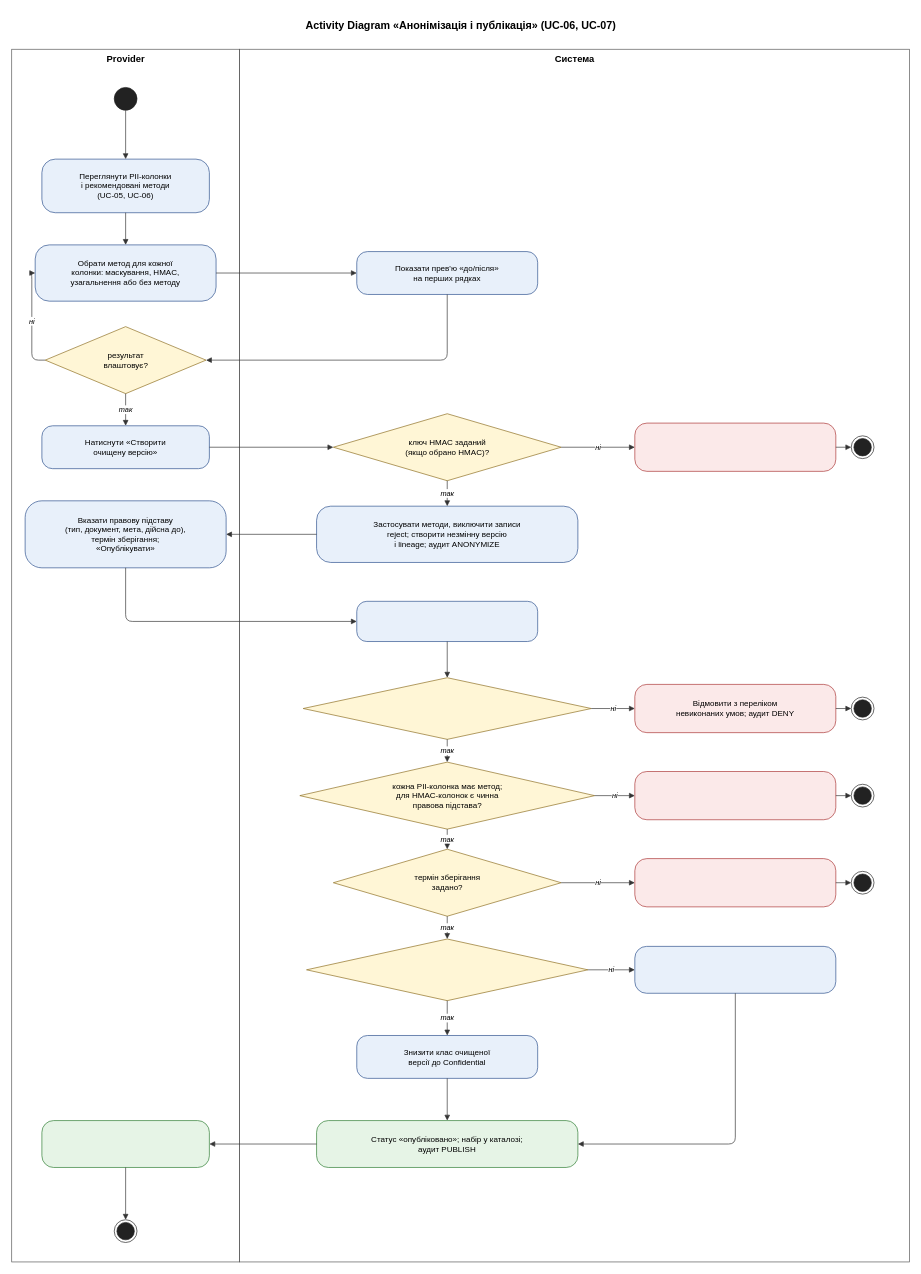
Image size: 921x1274. Some labels were removed from this diagram. The centre of each missing label's shape, as x and y in pixels:
Блокувати створення версії: помилка конфігурації: the point at 735,446
Відмовити: PII без методу або HMAC без чинної підстави; DENY: the point at 735,795
Відмовити: не задано термін зберігання; аудит DENY: the point at 735,882
Клас лишається Personal (є HMAC-колонки з підставою): the point at 735,969
Перевірити ворота публікації: the point at 447,621
Побачити перелік воріт з позначкою «виконано»: the point at 125,1143
профілювання і правила виконано, block-порушень немає?: the point at 447,708
усі PII-колонки оброблено маскуванням або узагальненням?: the point at 447,969
